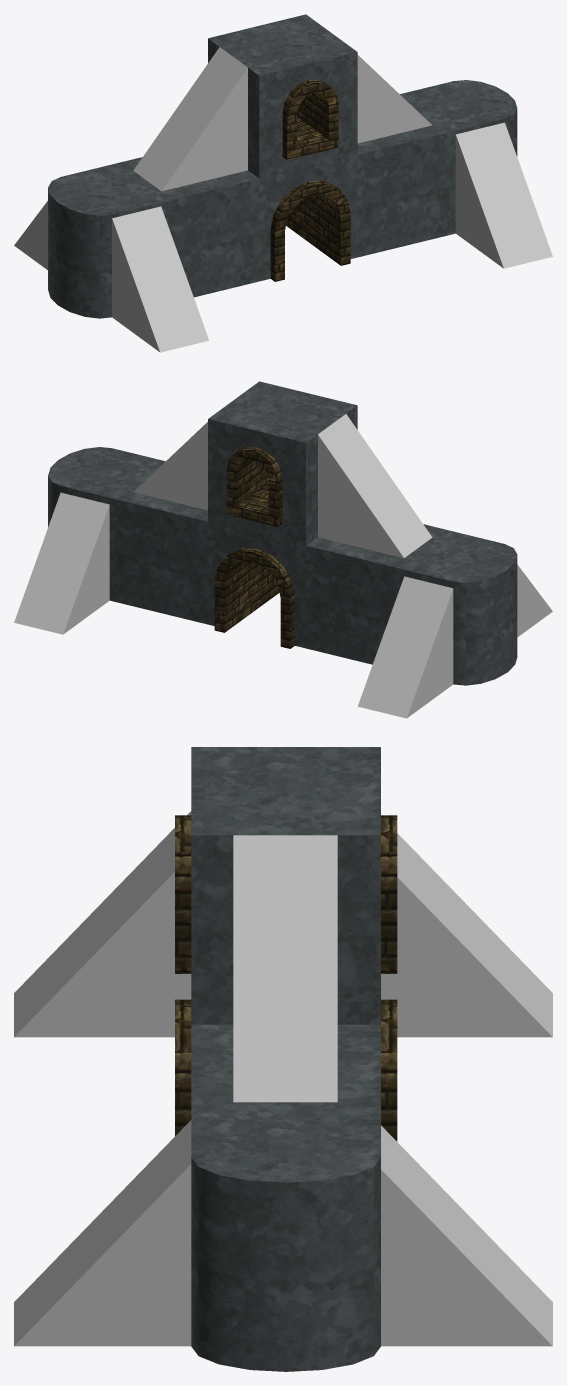
File: SummitGate.glb
3 views of the same model, one above another, from view 1: azimuth 30°, elevation 25°; view 2: azimuth 150°, elevation 25°; view 3: azimuth 270°, elevation 25° (orthographic). The views are drawn at different scales.
Parts seen in each view (by area): view 1: mergedBlocks(Clone); view 2: mergedBlocks(Clone); view 3: mergedBlocks(Clone).
Boxes of the visible parts, <box> form: mergedBlocks(Clone): <box>14,14,552,352</box>; mergedBlocks(Clone): <box>14,381,552,718</box>; mergedBlocks(Clone): <box>14,747,552,1371</box>.
Size of the model in its own units: 4.58 by 2 by 2.58.
3 materials, 2 textured.
